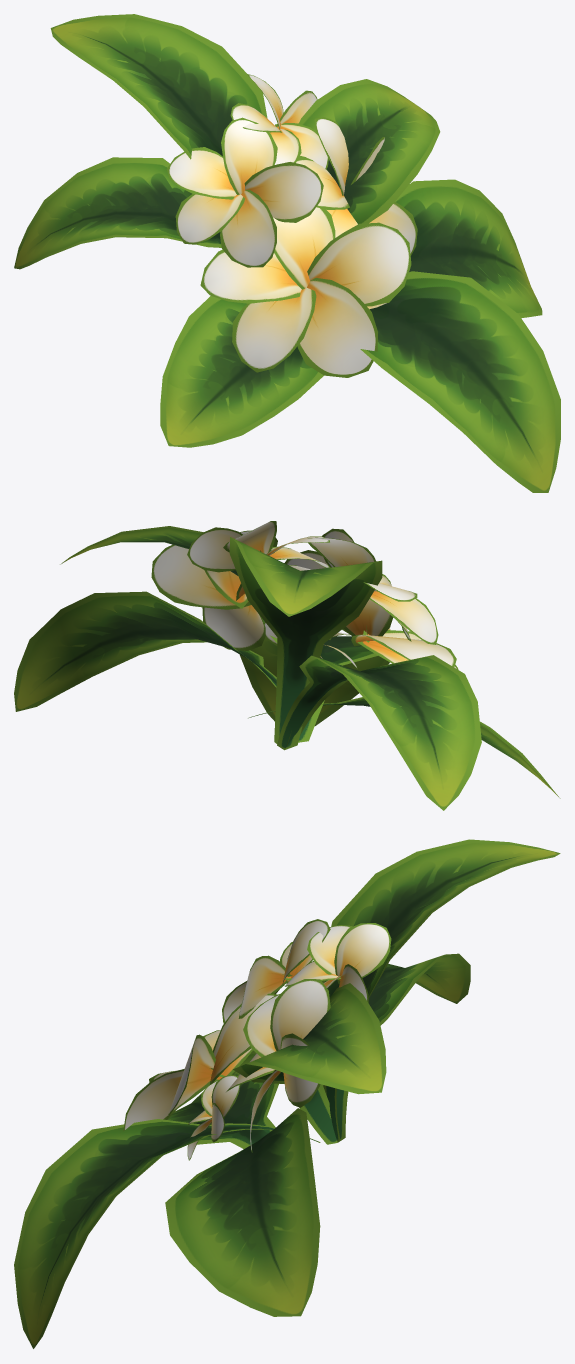
Rendered from Plumeria_1.fbx.
The picture shows the model from 3 angles, top to bottom: view 1: azimuth 30°, elevation 25°; view 2: azimuth 150°, elevation 25°; view 3: azimuth 270°, elevation 25°; orthographic projection. The views are drawn at different scales.
Parts seen in each view (by area): view 1: Object012, Object035, Object014, Object036, Object013, Object037, Object023, Object022, Object021, Object020, Object028, Object027 (+11 smaller); view 2: Object036, Object013, Object035, Object012, Object019, Object018, Object033, Object026, Object037, Object020, Object029, Object014 (+7 smaller); view 3: Object013, Object012, Object035, Object037, Object036, Object014, Object015, Object034, Object022, Object023, Object024, Object028 (+5 smaller).
Boxes of the visible parts, x1,y1,x2,y2 form: Object012: (360,271,560,492); Object035: (50,14,267,159); Object014: (160,296,323,447); Object036: (14,157,221,269); Object013: (395,179,542,318); Object037: (298,79,440,224); Object023: (307,222,411,306); Object022: (297,278,377,377); Object021: (232,287,316,372); Object020: (200,249,301,303); Object028: (244,162,323,222); Object027: (220,189,276,267); Object036: (277,655,481,810); Object013: (14,591,276,711); Object035: (229,537,382,749); Object012: (239,619,389,742); Object019: (151,544,251,609); Object018: (202,605,265,650); Object033: (187,527,261,572); Object026: (369,591,438,644); Object037: (60,526,291,747); Object020: (351,634,456,667); Object029: (308,537,376,567); Object014: (248,697,560,798); Object013: (165,1108,320,1316); Object012: (14,1119,320,1348); Object035: (322,839,560,1142); Object037: (233,983,386,1144); Object036: (323,953,470,1142); Object014: (167,1050,278,1148); Object015: (270,979,330,1050); Object034: (334,923,391,984); Object022: (123,1068,213,1131); Object023: (166,1034,215,1119); Object024: (209,993,277,1085); Object028: (238,955,290,1018).
Size of the model in its own units: 3.1 by 2.38 by 3.07.
